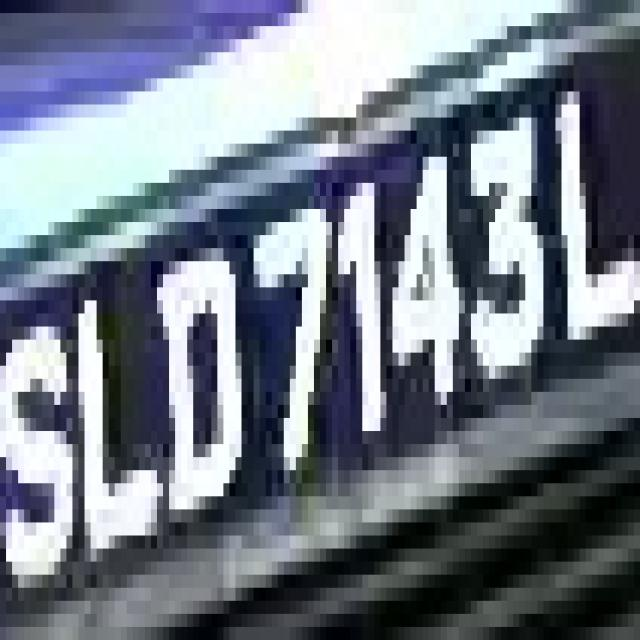1: (320, 196, 398, 470)
3: (453, 78, 543, 405)
4: (380, 144, 483, 418)
7: (242, 222, 338, 496)
D: (145, 222, 253, 496)
L: (72, 248, 157, 562), (543, 104, 628, 392)
S: (6, 248, 72, 614)
